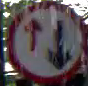Two way: (5, 0, 87, 79)
